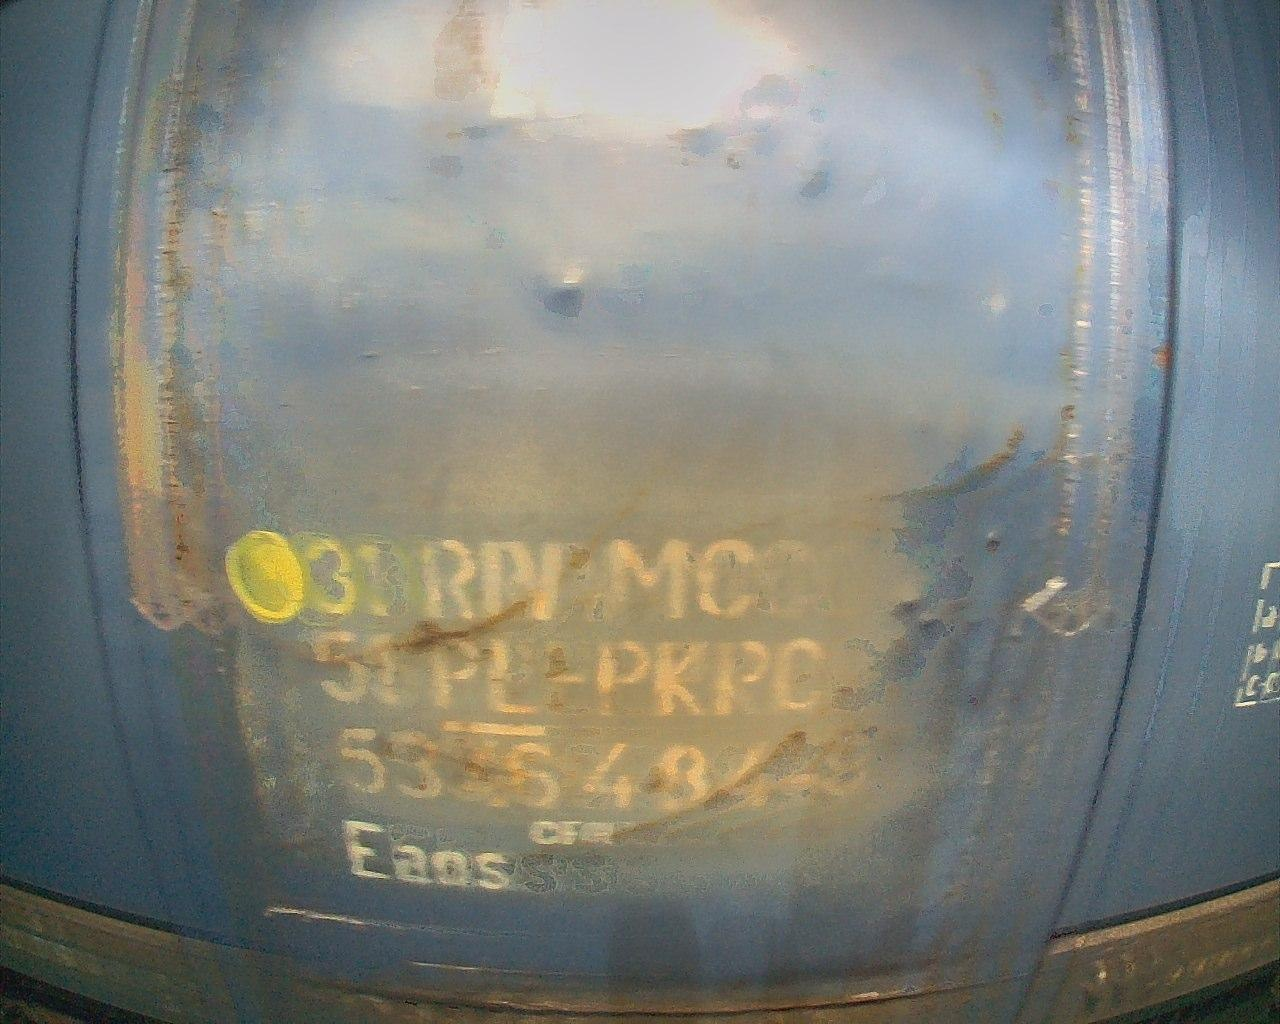UIC: (293, 527, 828, 894)
